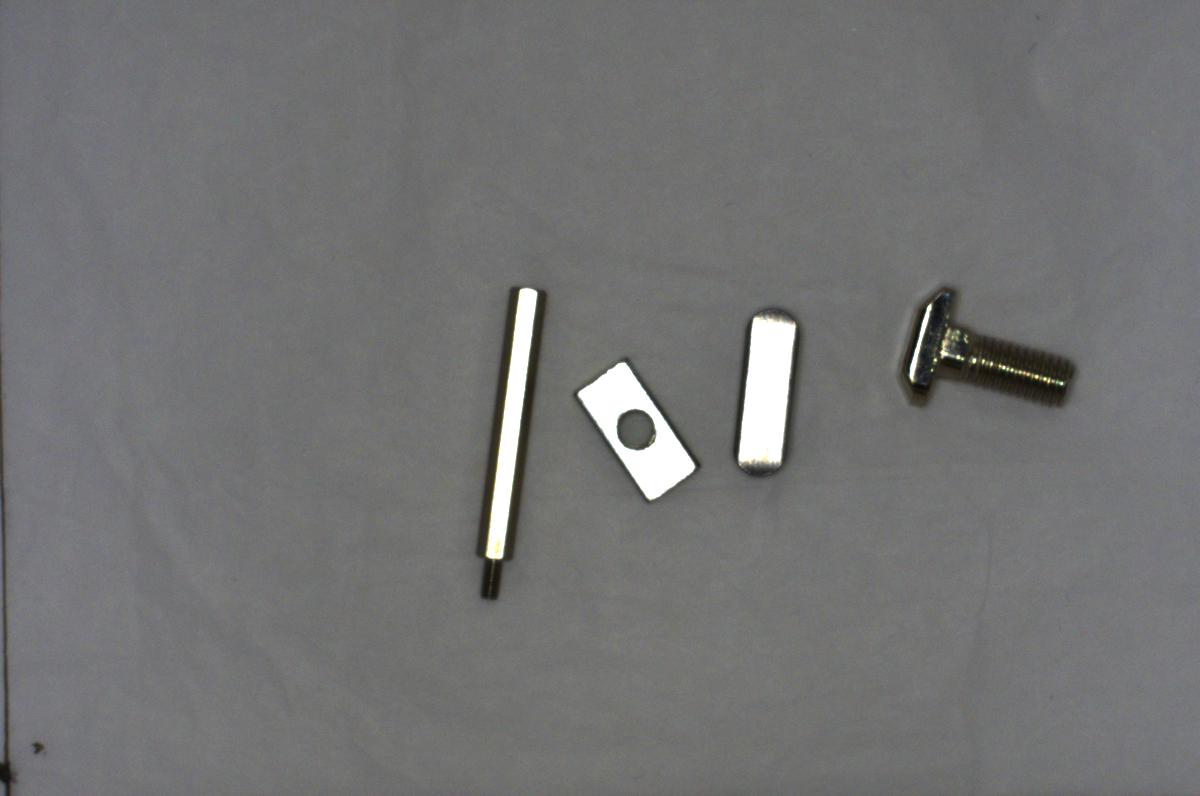Hexagonal steel column: (452, 276, 545, 598)
Keybar: (725, 302, 806, 490)
Rectangular nut: (572, 359, 701, 503)
T-shaped screw: (899, 285, 1084, 415)
